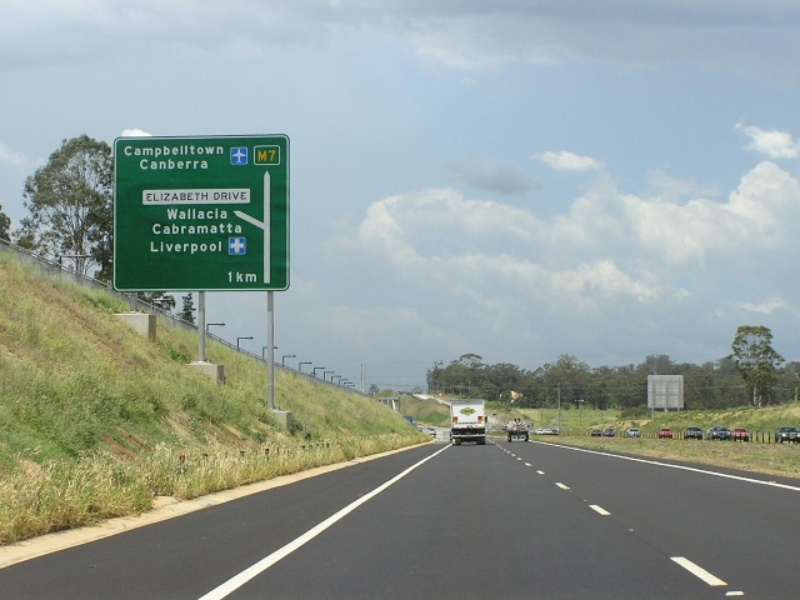text: (161, 239, 176, 256), (177, 239, 192, 256), (193, 239, 208, 256), (129, 143, 144, 159), (145, 143, 160, 159), (161, 143, 176, 159), (177, 143, 192, 159), (193, 143, 208, 159), (209, 143, 224, 159), (209, 239, 223, 256), (145, 158, 160, 171), (161, 158, 176, 171), (177, 158, 192, 171), (193, 158, 208, 171), (258, 149, 272, 162), (177, 207, 192, 219), (193, 207, 208, 219), (209, 207, 224, 219), (161, 222, 176, 234), (177, 222, 192, 234), (193, 222, 208, 234), (209, 222, 224, 234), (225, 222, 240, 234), (241, 272, 257, 283), (193, 192, 209, 202), (151, 239, 160, 256), (161, 192, 176, 202), (177, 192, 192, 202), (225, 192, 240, 201), (228, 272, 240, 283), (147, 192, 160, 202), (166, 207, 176, 219), (152, 222, 160, 234), (214, 192, 224, 201), (139, 158, 144, 171), (124, 143, 128, 159), (241, 192, 247, 201), (273, 149, 276, 162), (225, 207, 228, 219), (241, 222, 242, 234)
